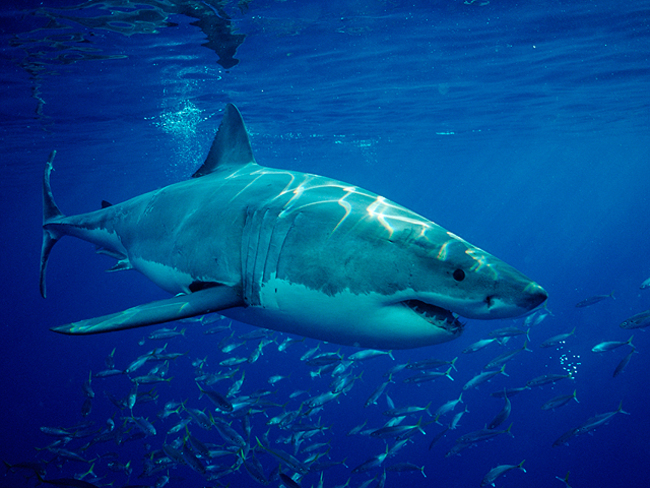shark: (33, 97, 557, 363)
